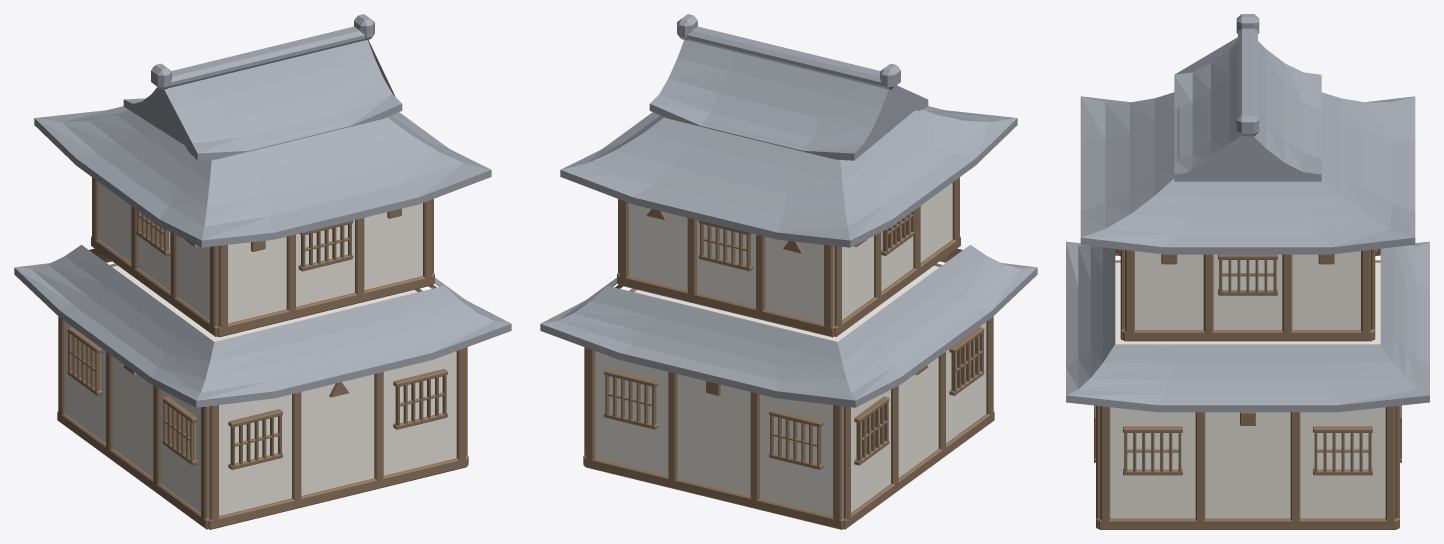
File: feudal-japan-castle-town-corner-turret-02dc2796__26571.glb
3 renders of one model, left to right at view 1: azimuth 30°, elevation 25°; view 2: azimuth 150°, elevation 25°; view 3: azimuth 270°, elevation 25°, orthographic.
Visible parts, largest first — view 1: corner-turret; view 2: corner-turret; view 3: corner-turret.
Part boxes in pixels (bbox=[...]): corner-turret: bbox=[14, 14, 511, 529]; corner-turret: bbox=[540, 14, 1037, 529]; corner-turret: bbox=[1066, 14, 1429, 529].
Size of the model in its own units: 7.4 by 9.01 by 7.4.
